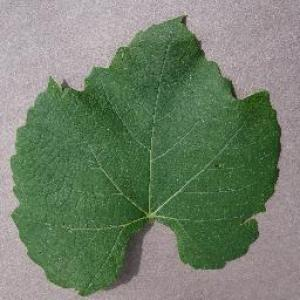Folha: (8, 13, 281, 296)
